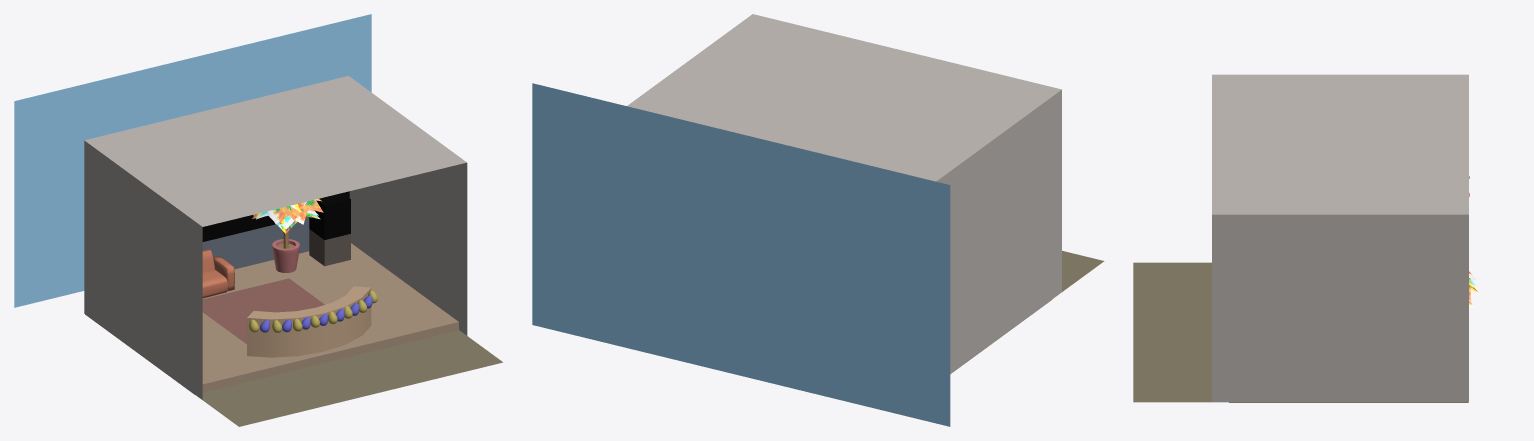
File: StageObjects.fbx
3 views of the same model, side by side, from view 1: azimuth 30°, elevation 25°; view 2: azimuth 150°, elevation 25°; view 3: azimuth 270°, elevation 25° (orthographic). The views are drawn at different scales.
Parts seen in each view (by area): view 1: stage1125:stage:tenjou, stage1125:stage:haikei, stage1125:stage:stage, stage1125:stage:floor, stage1125:stage:desk, steakcarpet, stage1125:stage:wall, stage1125:stage:cage, stage1125:stage:cagedesk, stage1125:stage:window, stage1125:stage:polySurface10, stage1125:stage:pCube1; view 2: stage1125:stage:haikei, stage1125:stage:tenjou, stage1125:stage:floor; view 3: stage1125:stage:tenjou, stage1125:stage:floor.
Part boxes in pixels (x1,y1,x2,y2): stage1125:stage:tenjou: [84, 76, 467, 399]; stage1125:stage:haikei: [14, 14, 371, 307]; stage1125:stage:stage: [85, 243, 458, 394]; stage1125:stage:floor: [202, 330, 502, 426]; stage1125:stage:desk: [247, 286, 371, 357]; steakcarpet: [202, 278, 324, 344]; stage1125:stage:wall: [202, 216, 309, 269]; stage1125:stage:cage: [309, 193, 350, 240]; stage1125:stage:cagedesk: [309, 229, 350, 266]; stage1125:stage:window: [202, 191, 349, 241]; stage1125:stage:polySurface10: [272, 239, 299, 272]; stage1125:stage:pCube1: [202, 270, 228, 298]; stage1125:stage:haikei: [532, 83, 950, 426]; stage1125:stage:tenjou: [627, 14, 1061, 373]; stage1125:stage:floor: [1062, 250, 1104, 291]; stage1125:stage:tenjou: [1212, 74, 1468, 402]; stage1125:stage:floor: [1133, 262, 1211, 402].
Bounding box in the file's own units: 24.21 × 13.43 × 20.91.
